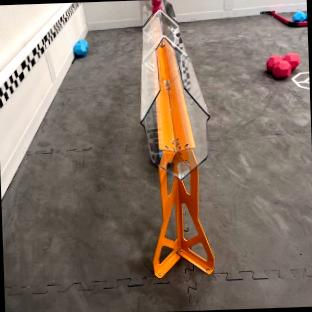V5_BLUE: (74, 40, 87, 57)
V5_RED: (266, 54, 299, 78)
